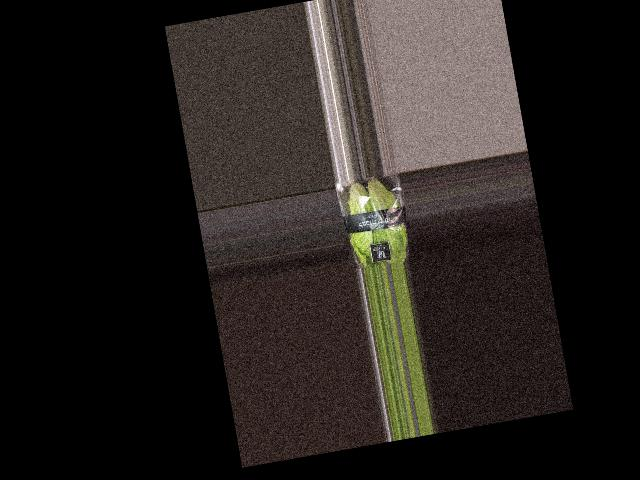lettuce: (334, 172, 410, 270)
